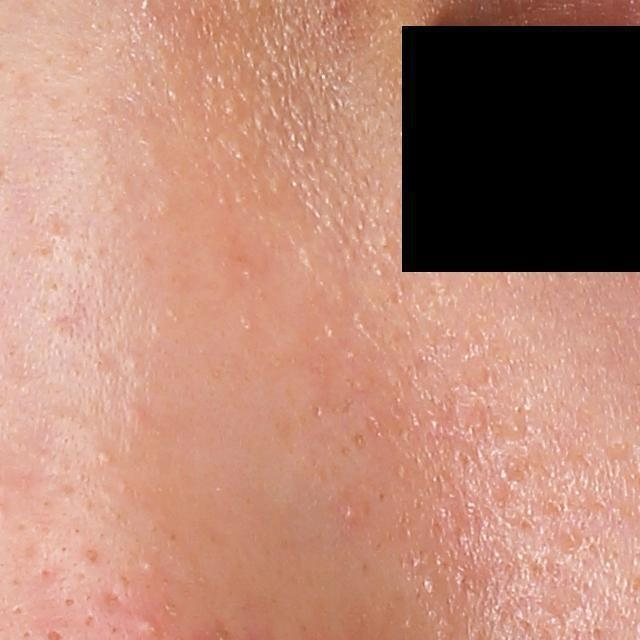comedo: (95, 447, 114, 468)
